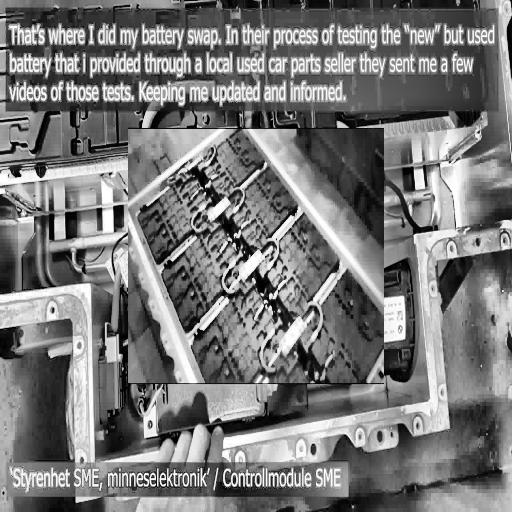b_casing: (0, 0, 512, 505)
high_volt_cable: (257, 315, 284, 379), (300, 295, 326, 355), (219, 249, 244, 304), (256, 232, 283, 282), (189, 197, 213, 238), (224, 183, 248, 220), (201, 142, 218, 170)
